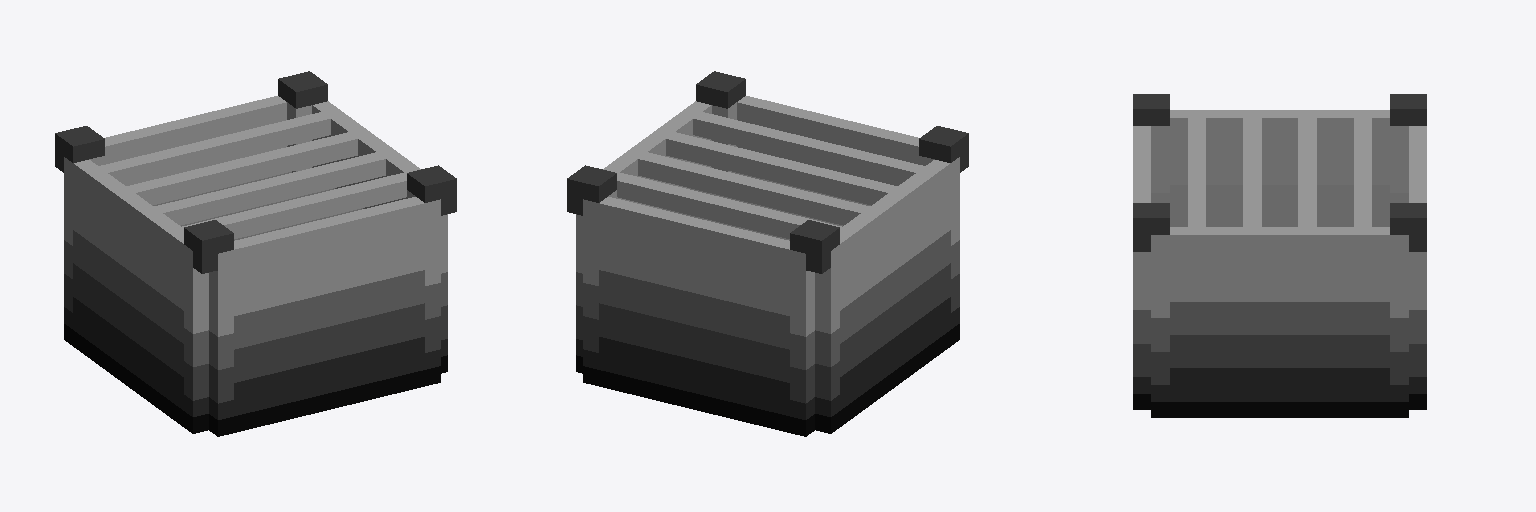
The picture shows the model from 3 angles: view 1: azimuth 30°, elevation 25°; view 2: azimuth 150°, elevation 25°; view 3: azimuth 270°, elevation 25°; orthographic projection.
Parts seen in each view (by area): view 1: ExtractorFan1_Body; view 2: ExtractorFan1_Body; view 3: ExtractorFan1_Body.
Part boxes in pixels (x1,y1,x2,y2): ExtractorFan1_Body: (55,71,456,436); ExtractorFan1_Body: (567,71,968,436); ExtractorFan1_Body: (1133,94,1426,417).
Bounding box in the file's own units: 1.01 × 0.756 × 1.01.
1 materials, 1 textured.